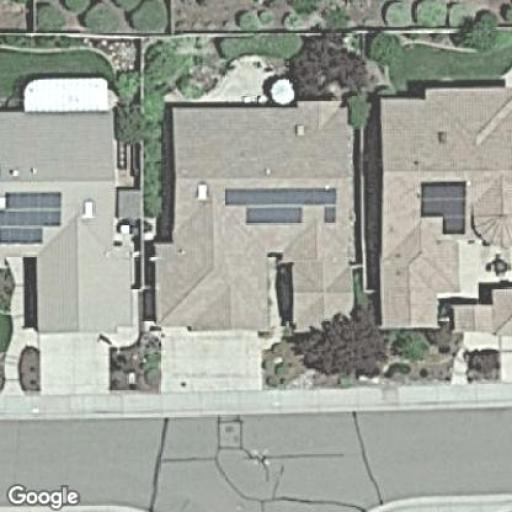solar-panel: (221, 184, 339, 226), (2, 188, 63, 246), (419, 179, 468, 236)
